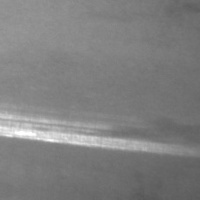scratches: (0, 103, 182, 155)
